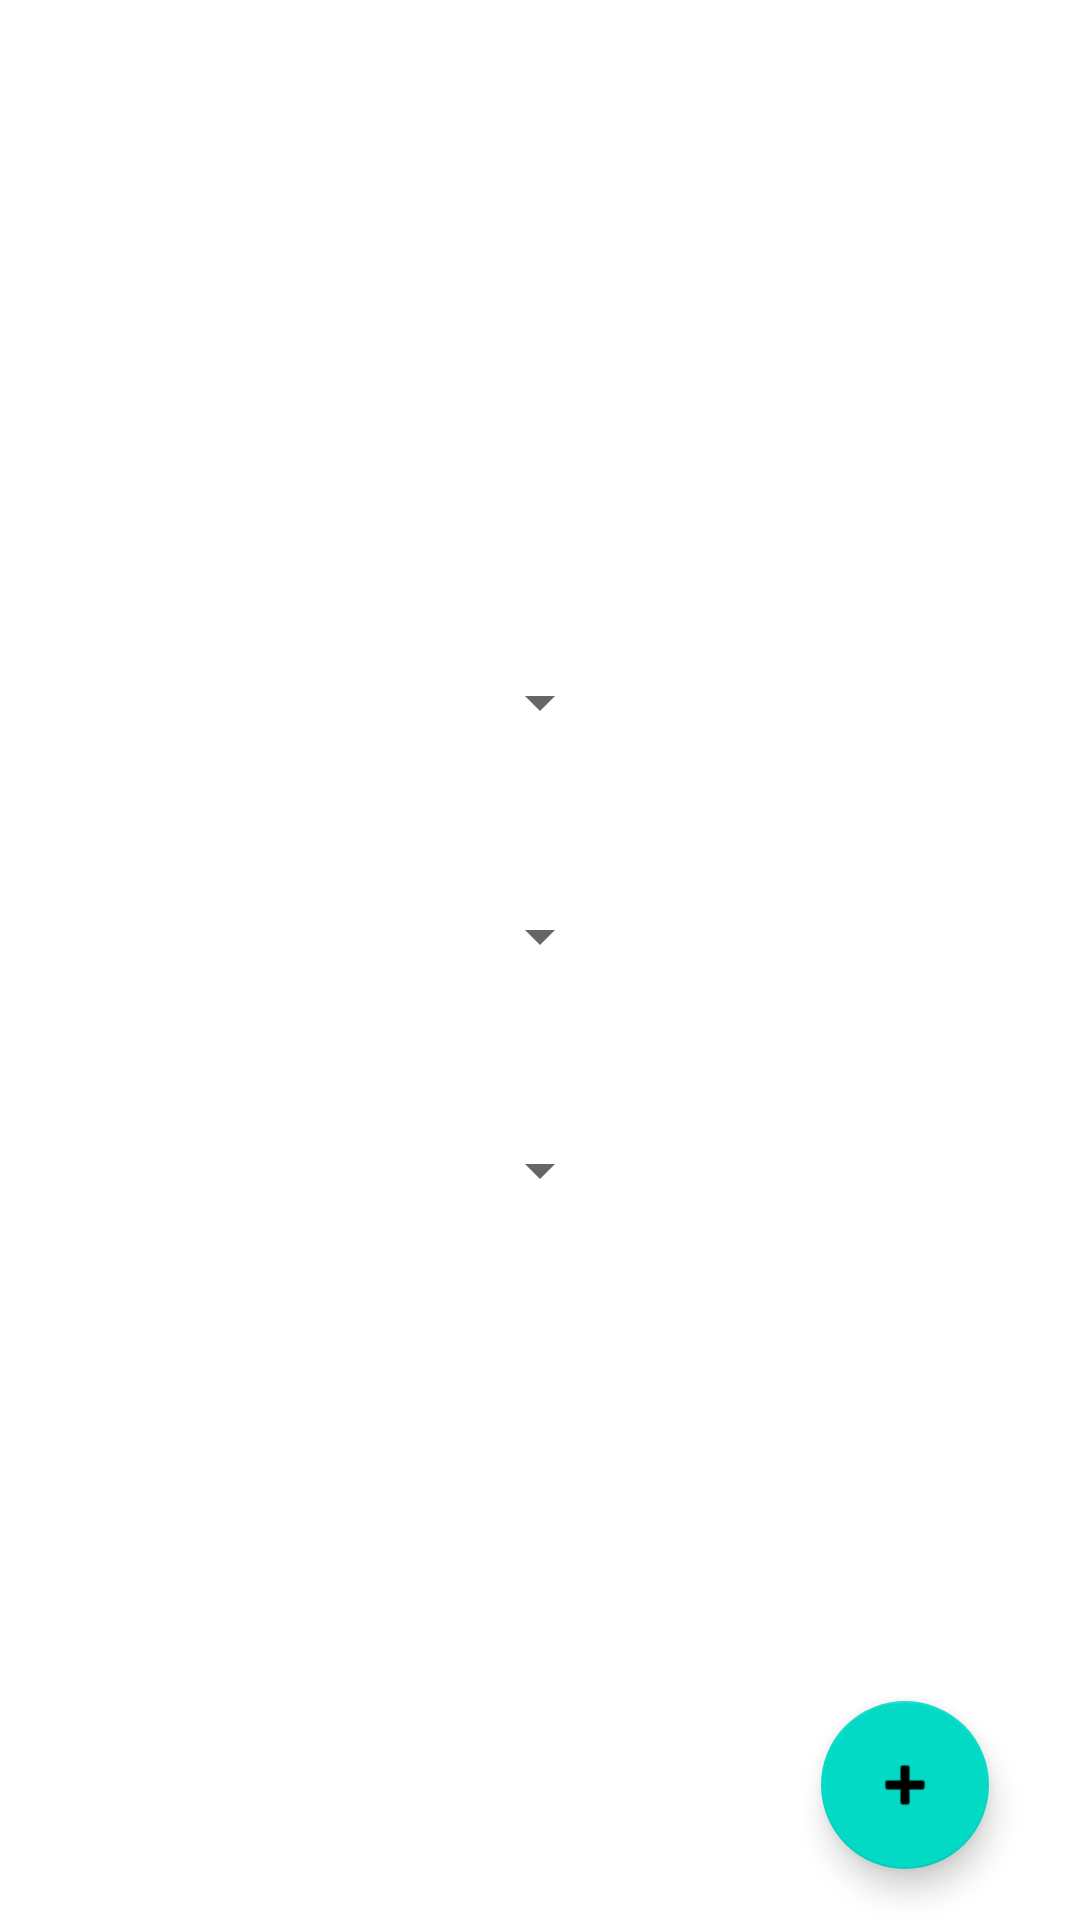

Point at icon controls on the screen. Image size 1080x1920, points as point (x, y).
add: point (905, 1785)
